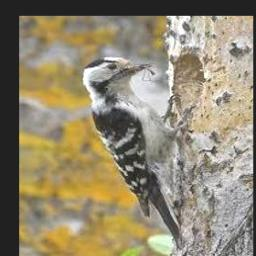Woodpecker: (82, 56, 181, 243)
